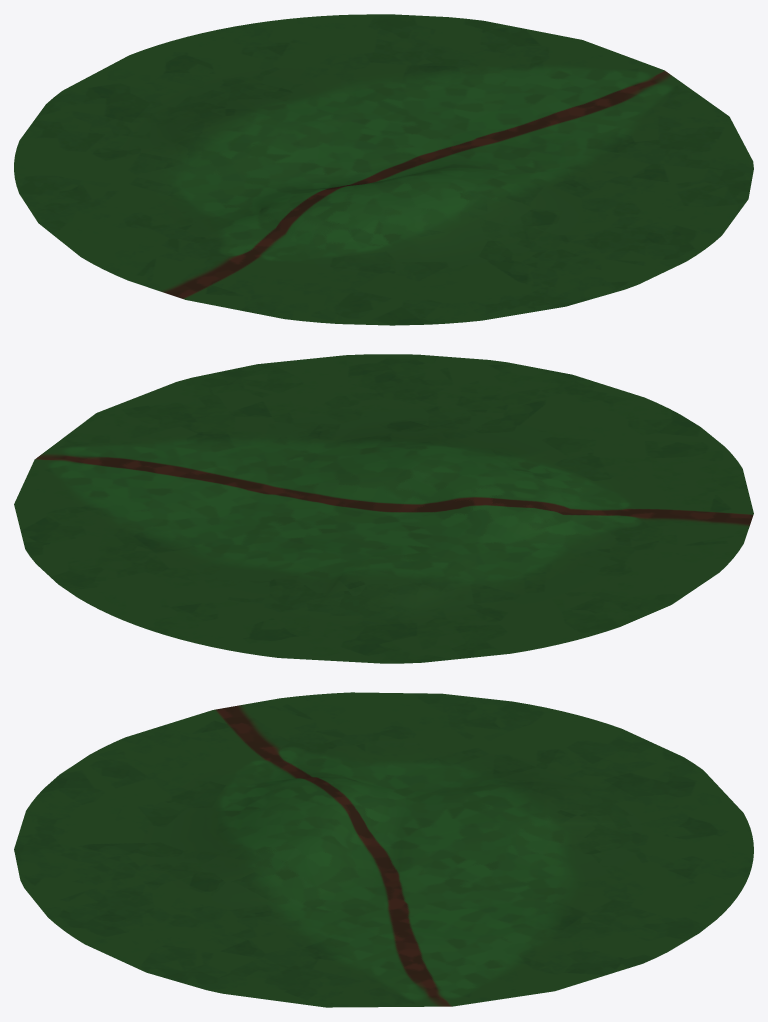
File: Las #2 Mapa.glb
The picture shows the model from 3 angles, top to bottom: view 1: azimuth 30°, elevation 25°; view 2: azimuth 150°, elevation 25°; view 3: azimuth 270°, elevation 25°; orthographic projection.
Visible parts, largest first — view 1: Plane.006; view 2: Plane.006; view 3: Plane.006.
Boxes of the visible parts, <box> form: Plane.006: <box>14,14,753,325</box>; Plane.006: <box>14,354,753,663</box>; Plane.006: <box>14,692,753,1007</box>.
Bounding box in the file's own units: 421 × 12.04 × 425.
1 material, 1 textured.
